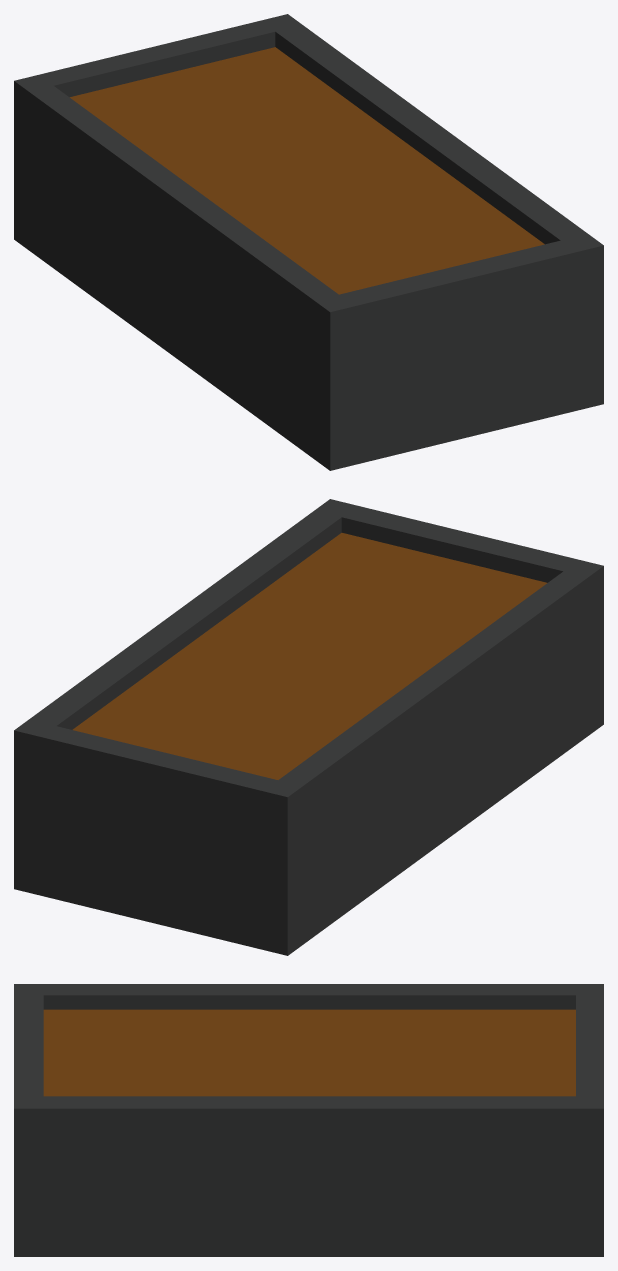
File: flowerbed.fbx
3 renders of one model, top to bottom at view 1: azimuth 30°, elevation 25°; view 2: azimuth 150°, elevation 25°; view 3: azimuth 270°, elevation 25°, orthographic. The views are drawn at different scales.
Visible parts, largest first — view 1: Cube; view 2: Cube; view 3: Cube.
Boxes of the visible parts, <box> form: Cube: <box>14,14,603,470</box>; Cube: <box>14,499,603,955</box>; Cube: <box>14,984,603,1256</box>.
Bounding box in the file's own units: 1 × 0.554 × 2.
